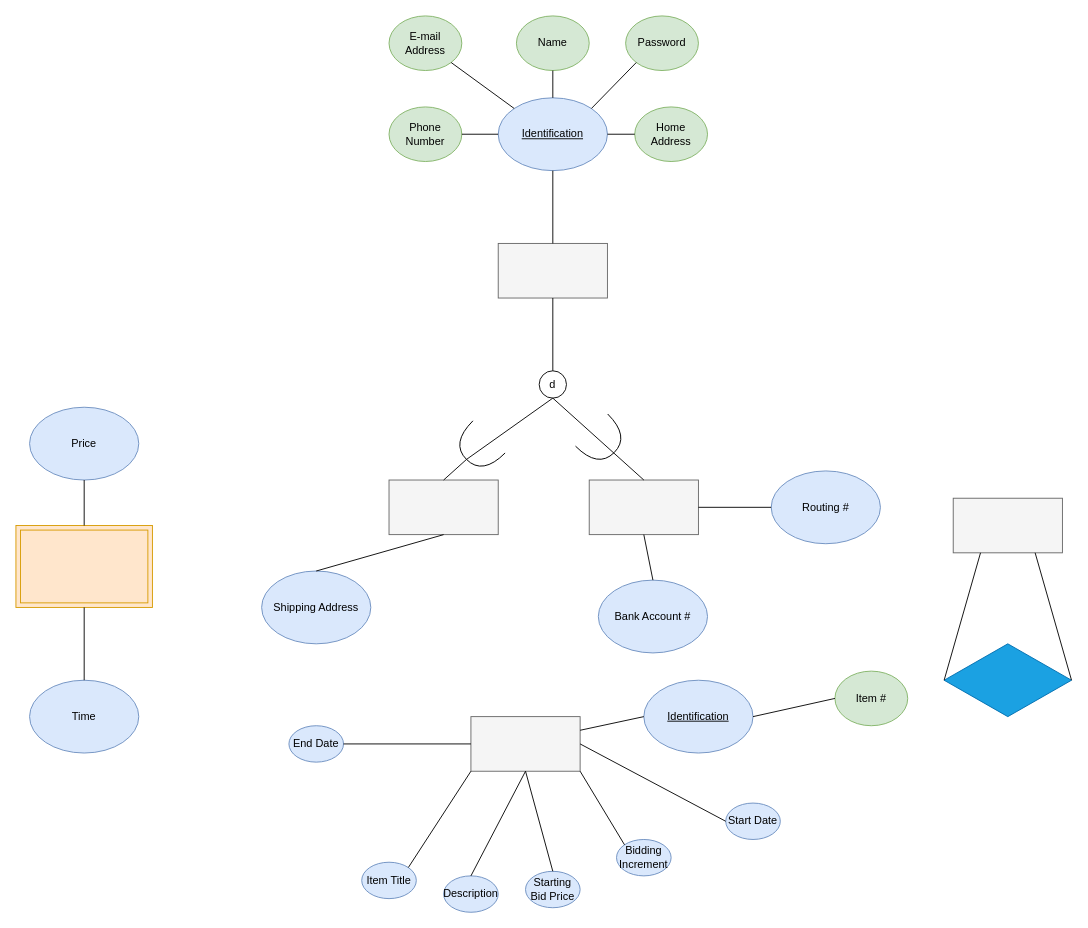
This 1088x928 diagram has some shape labels left out. The centre of each missing label's shape, as x and y in pixels:
"Bids" belongs at (83,566).
"Buyer" belongs at (443,507).
"Category" belongs at (1007,525).
"Items" belongs at (525,743).
"Members" belongs at (552,270).
"Seller" belongs at (643,507).
